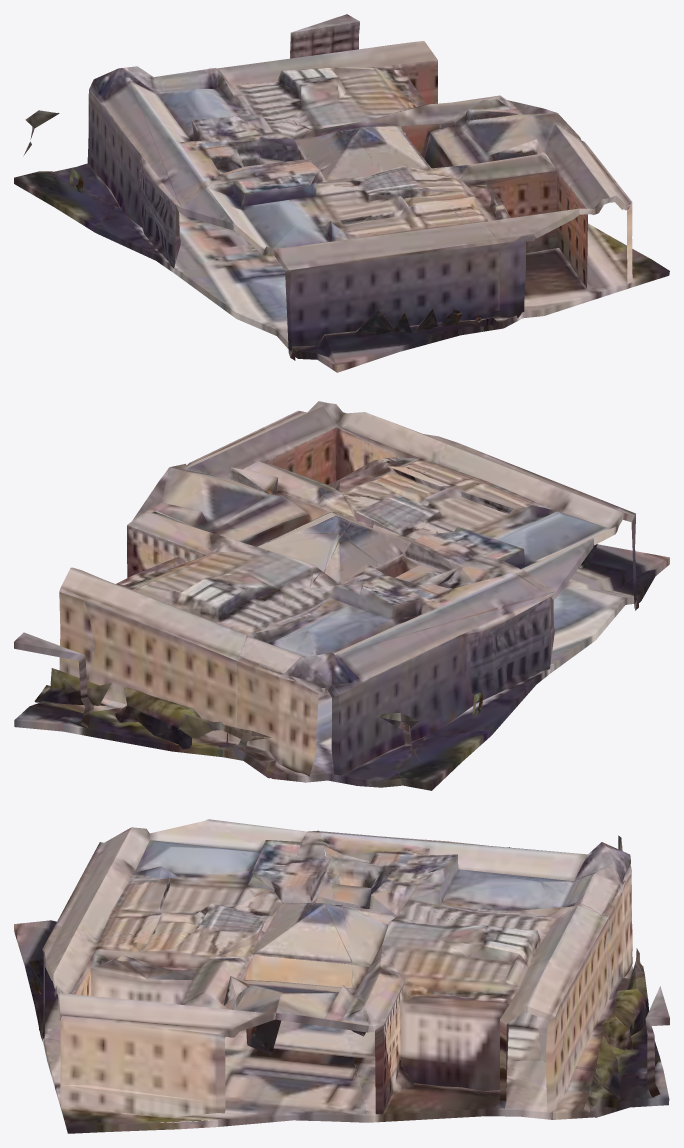
3 views of the same model, one above another, from view 1: azimuth 30°, elevation 25°; view 2: azimuth 150°, elevation 25°; view 3: azimuth 270°, elevation 25° (orthographic). The views are drawn at different scales.
Parts seen in each view (by area): view 1: Mesh_0; view 2: Mesh_0; view 3: Mesh_0.
Boxes of the visible parts, bbox=[...] form: Mesh_0: bbox=[14, 14, 669, 372]; Mesh_0: bbox=[14, 401, 669, 790]; Mesh_0: bbox=[14, 819, 669, 1133].
Size of the model in its own units: 133 by 38.02 by 165.
Materials: 2 (2 with a texture image).
